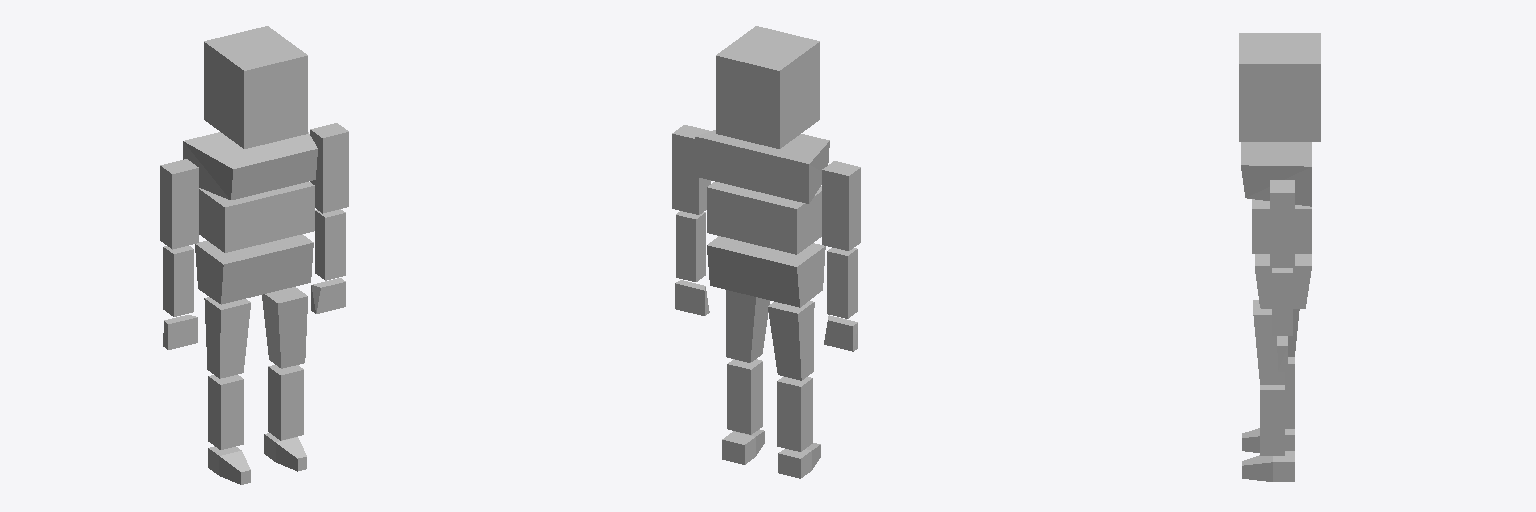
The model's file is person1.obj.
3 renders of one model, left to right at view 1: azimuth 30°, elevation 25°; view 2: azimuth 150°, elevation 25°; view 3: azimuth 270°, elevation 25°, orthographic.
Visible parts, largest first — view 1: Cube; view 2: Cube; view 3: Cube.
Boxes of the visible parts, x1=… form: Cube: x1=160, y1=26, x2=348, y2=484; Cube: x1=672, y1=26, x2=860, y2=478; Cube: x1=1239, y1=33, x2=1320, y2=481.
Size of the model in its own units: 2.62 by 5.83 by 1.03.